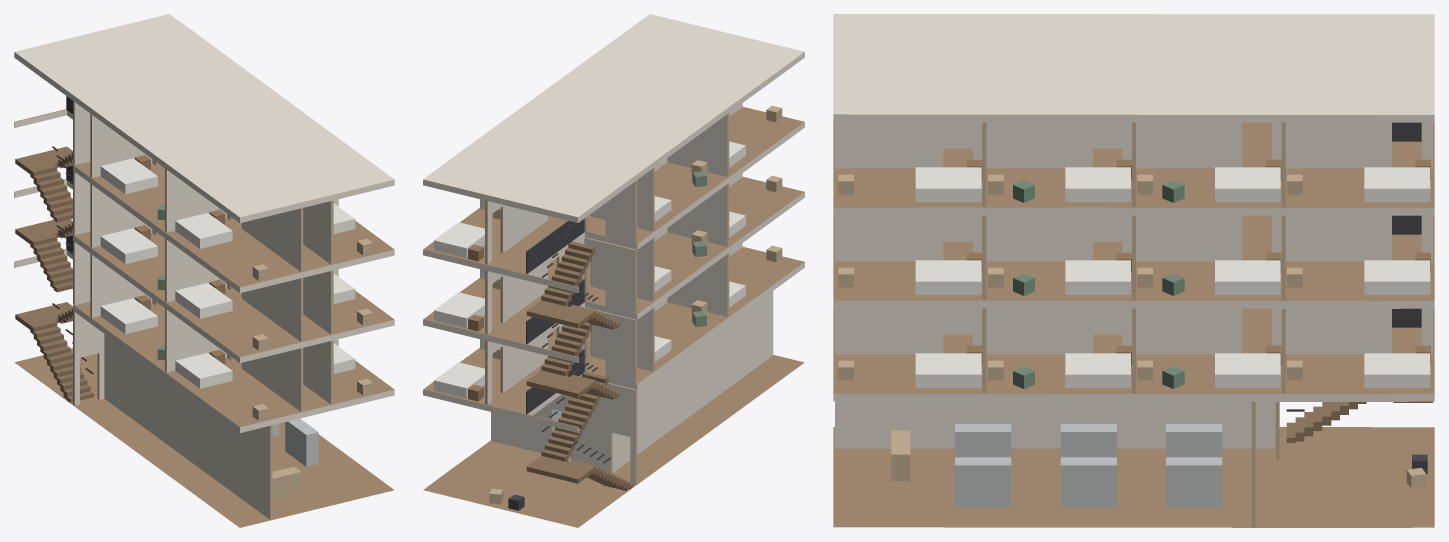
The model's file is interior.glb.
The picture shows the model from 3 angles, left to right: view 1: azimuth 30°, elevation 25°; view 2: azimuth 150°, elevation 25°; view 3: azimuth 270°, elevation 25°; orthographic projection. The views are drawn at different scales.
Visible parts, largest first — view 1: slabs, partitions, stair, coarse-s1, coarse-s2, coarse-s3, coarse-s0; view 2: slabs, partitions, stair, coarse-s1, coarse-s2, coarse-s3, coarse-s0; view 3: slabs, partitions, coarse-s0, coarse-s2, coarse-s1, coarse-s3, stair.
Boxes of the visible parts, <box> form: slabs: <box>14,14,394,527</box>; partitions: <box>73,101,338,519</box>; stair: <box>15,96,93,402</box>; coarse-s1: <box>100,295,372,420</box>; coarse-s2: <box>100,225,372,350</box>; coarse-s3: <box>100,155,372,280</box>; coarse-s0: <box>272,418,318,498</box>; slabs: <box>423,14,804,527</box>; partitions: <box>480,103,773,484</box>; stair: <box>526,218,633,490</box>; coarse-s1: <box>434,245,782,401</box>; coarse-s2: <box>434,175,782,331</box>; coarse-s3: <box>434,105,782,261</box>; coarse-s0: <box>489,409,562,510</box>; slabs: <box>833,14,1434,527</box>; partitions: <box>835,122,1432,527</box>; coarse-s0: <box>891,424,1427,507</box>; coarse-s2: <box>838,252,1430,295</box>; coarse-s1: <box>838,345,1430,388</box>; coarse-s3: <box>838,159,1430,202</box>; stair: <box>1286,122,1432,442</box>.
Size of the model in its own units: 7.26 by 13.84 by 18.24.
